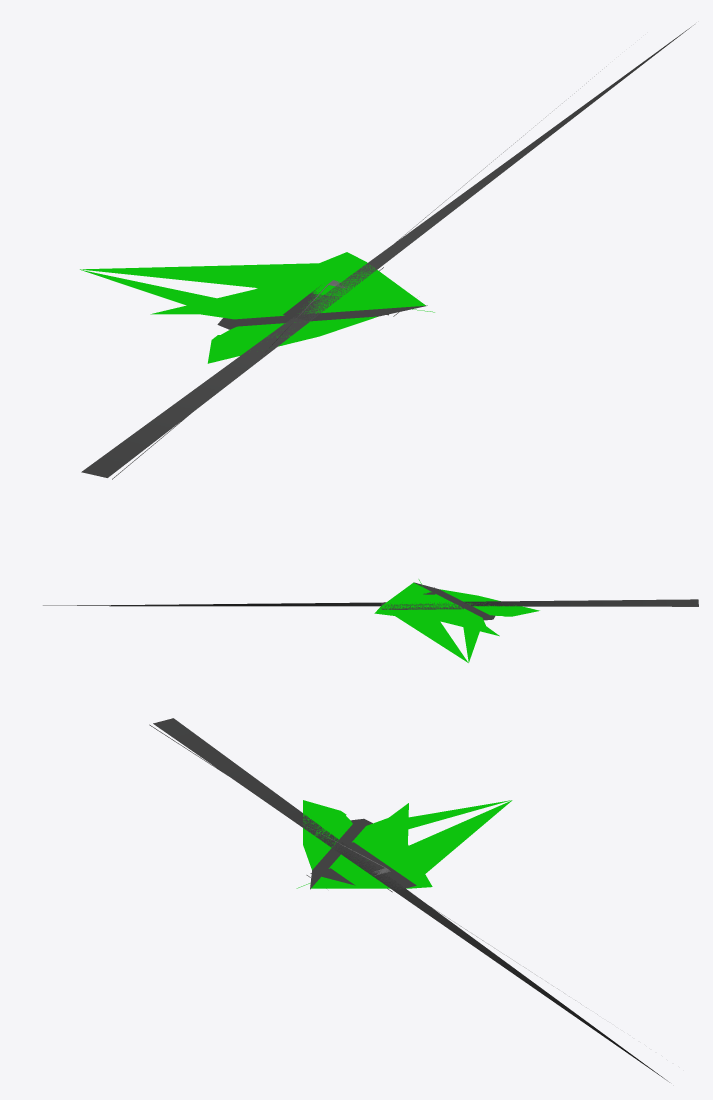
3 views of the same model, one above another, from view 1: azimuth 30°, elevation 25°; view 2: azimuth 150°, elevation 25°; view 3: azimuth 270°, elevation 25° (orthographic). The views are drawn at different scales.
Size of the model in its own units: 248 by 0.2 by 196.
